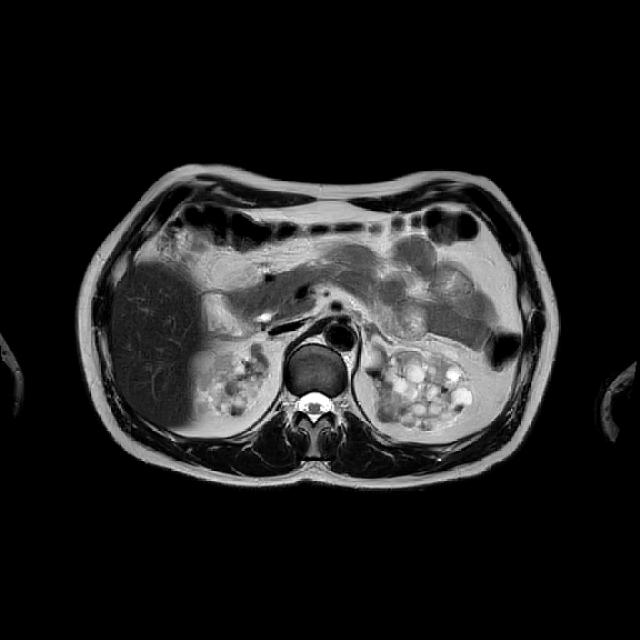sag: (189, 342, 268, 416)
sol: (365, 345, 470, 428)
